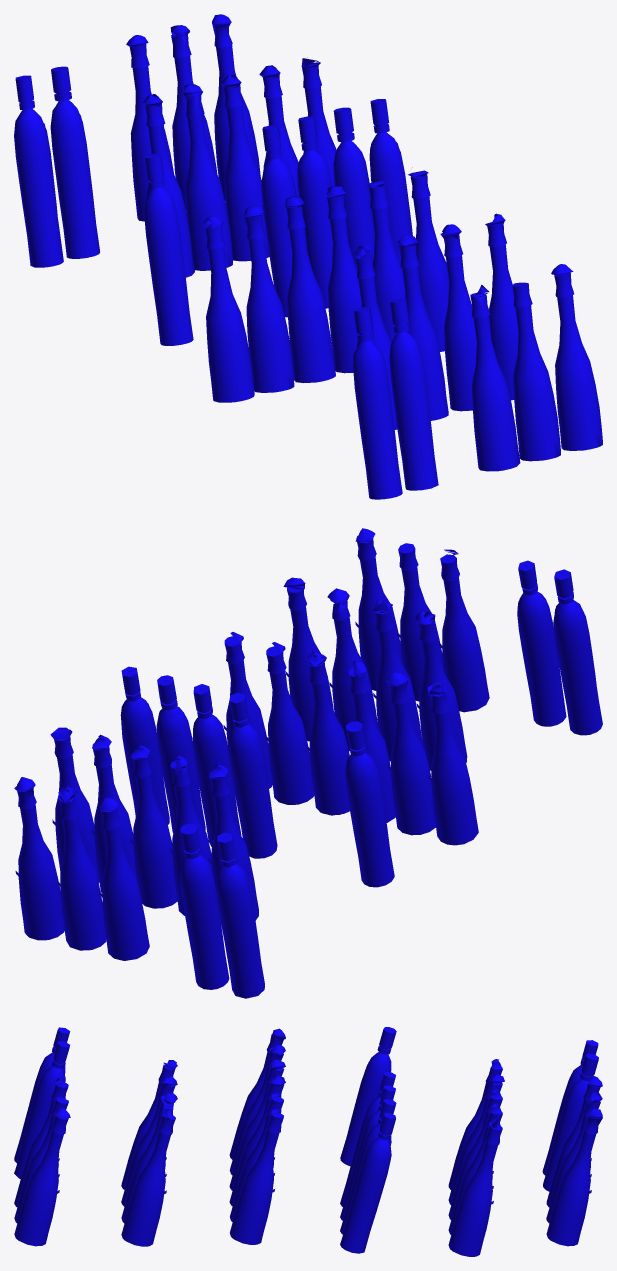
File: Wine1_low.fbx
The picture shows the model from 3 angles, top to bottom: view 1: azimuth 30°, elevation 25°; view 2: azimuth 150°, elevation 25°; view 3: azimuth 270°, elevation 25°; orthographic projection. The views are drawn at different scales.
Visible parts, largest first — view 1: Line1789527295_Retopo; view 2: Line1789527295_Retopo; view 3: Line1789527295_Retopo.
Boxes of the visible parts, left/top/right/bottom form: Line1789527295_Retopo: left=14, top=14, right=602, bottom=499; Line1789527295_Retopo: left=14, top=528, right=602, bottom=998; Line1789527295_Retopo: left=14, top=1027, right=602, bottom=1256.
Size of the model in its own units: 35.56 by 23.76 by 85.08.
